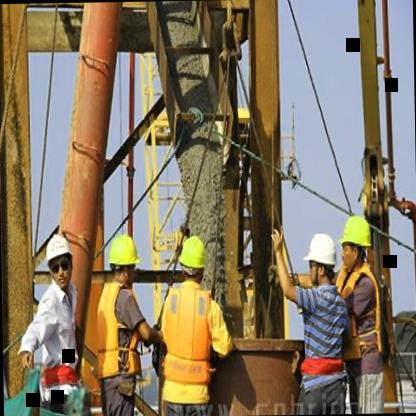helmet: (104, 227, 140, 297), (338, 212, 372, 274), (304, 229, 338, 288), (176, 233, 207, 286), (44, 232, 72, 290)
